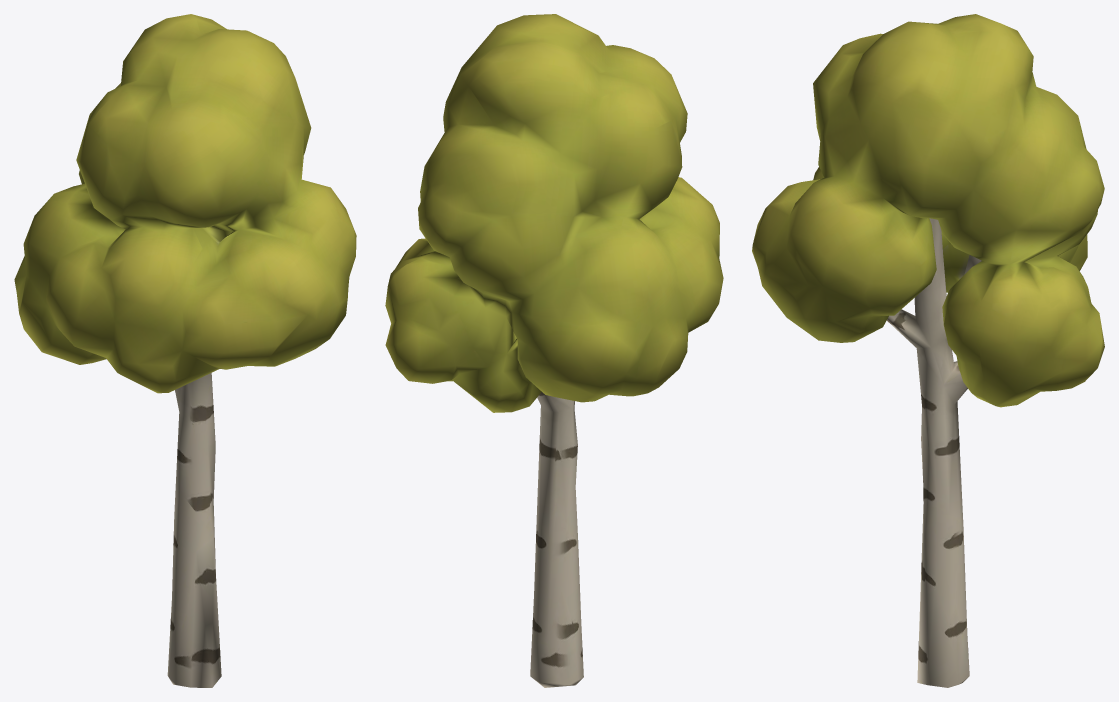
The model's file is tree-birch.glb.
3 renders of one model, left to right at view 1: azimuth 30°, elevation 25°; view 2: azimuth 150°, elevation 25°; view 3: azimuth 270°, elevation 25°, orthographic. The views are drawn at different scales.
Visible parts, largest first — view 1: tripo_node_229f5e30-db7f-4074-ab1d-b2b898058ba0; view 2: tripo_node_229f5e30-db7f-4074-ab1d-b2b898058ba0; view 3: tripo_node_229f5e30-db7f-4074-ab1d-b2b898058ba0.
Part boxes in pixels (bbox=[...]): tripo_node_229f5e30-db7f-4074-ab1d-b2b898058ba0: bbox=[14, 14, 356, 687]; tripo_node_229f5e30-db7f-4074-ab1d-b2b898058ba0: bbox=[385, 14, 723, 687]; tripo_node_229f5e30-db7f-4074-ab1d-b2b898058ba0: bbox=[752, 14, 1104, 687].
Size of the model in its own units: 0.4349 by 0.9989 by 0.4811.
1 material, 1 textured.
